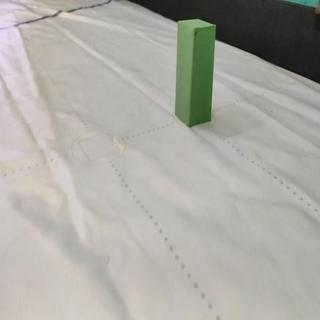greenbox: (175, 18, 217, 130)
